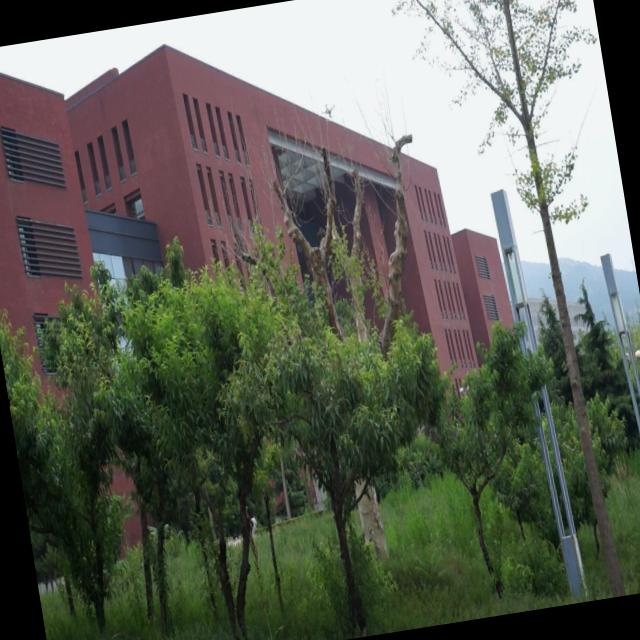drone: (321, 98, 338, 120)
